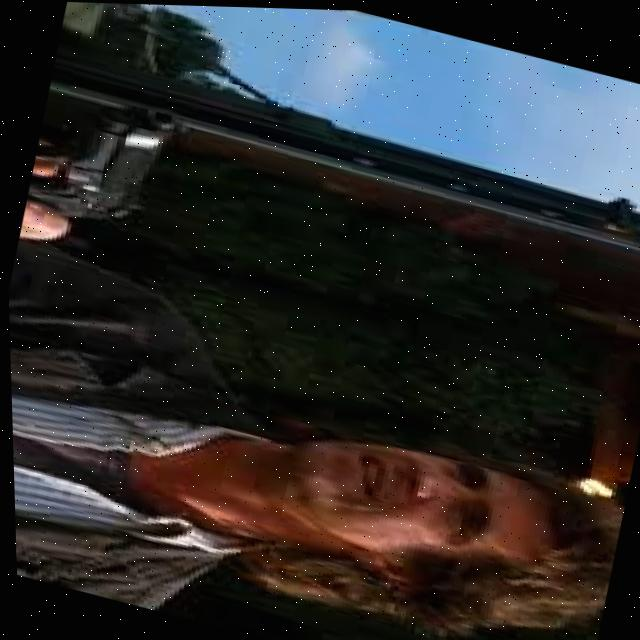pistol: (20, 80, 189, 238)
